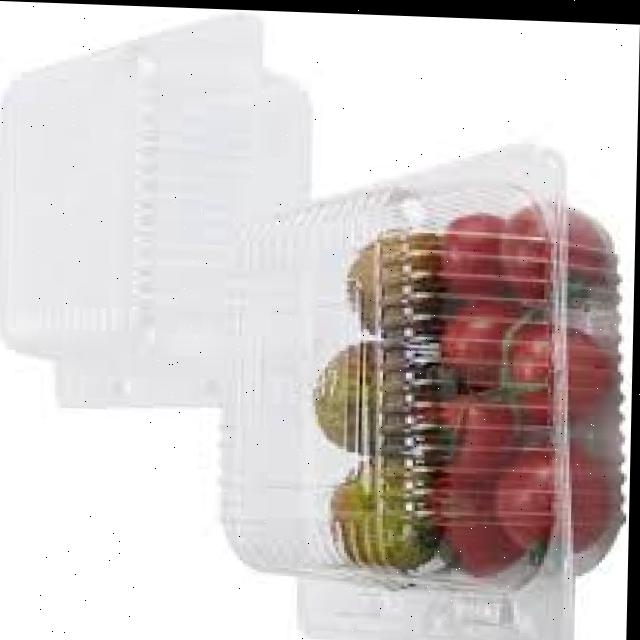disposable: (212, 106, 638, 640)
